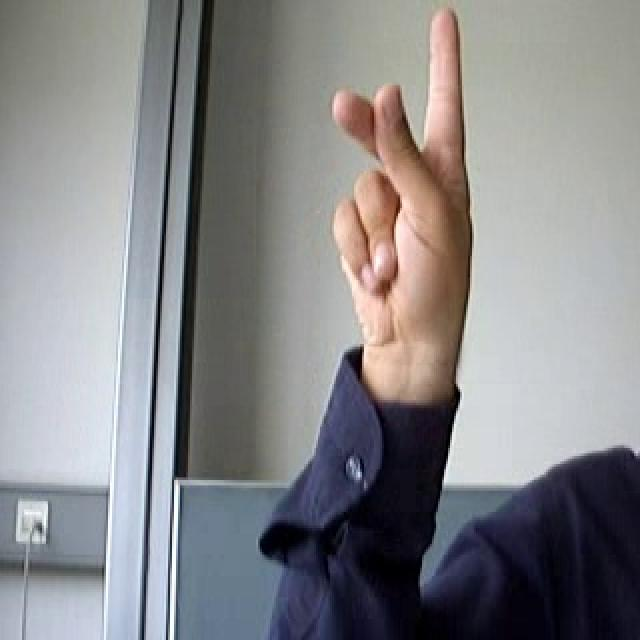K: (314, 0, 489, 356)
